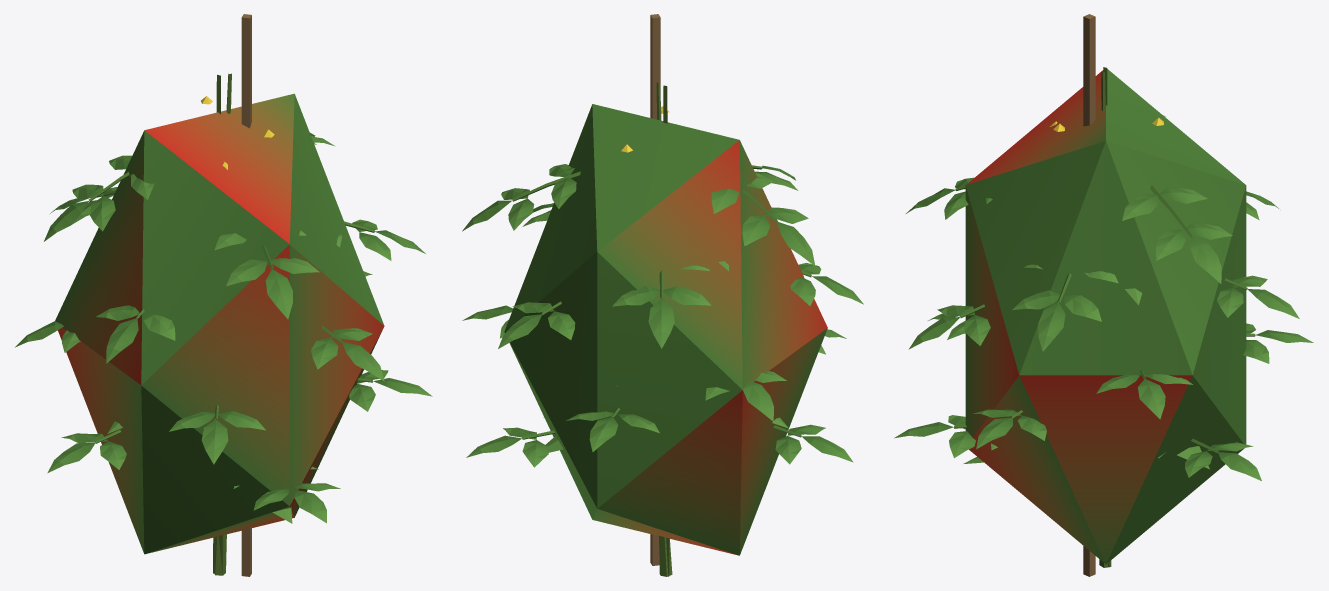
File: tomato.glb
The picture shows the model from 3 angles, left to right: view 1: azimuth 30°, elevation 25°; view 2: azimuth 150°, elevation 25°; view 3: azimuth 270°, elevation 25°; orthographic projection.
Parts seen in each view (by area): view 1: leaves (×2), stem; view 2: leaves (×2), stem; view 3: leaves (×2), stem.
Part boxes in pixels (left/top/right/bottom): leaves (×2): left=15, top=93, right=432, bottom=554; stem: left=214, top=14, right=251, bottom=576; leaves (×2): left=462, top=104, right=863, bottom=555; stem: left=650, top=14, right=672, bottom=576; leaves (×2): left=894, top=69, right=1313, bottom=564; stem: left=1083, top=14, right=1111, bottom=576.
Size of the model in its own units: 0.6803 by 1 by 0.6837.
